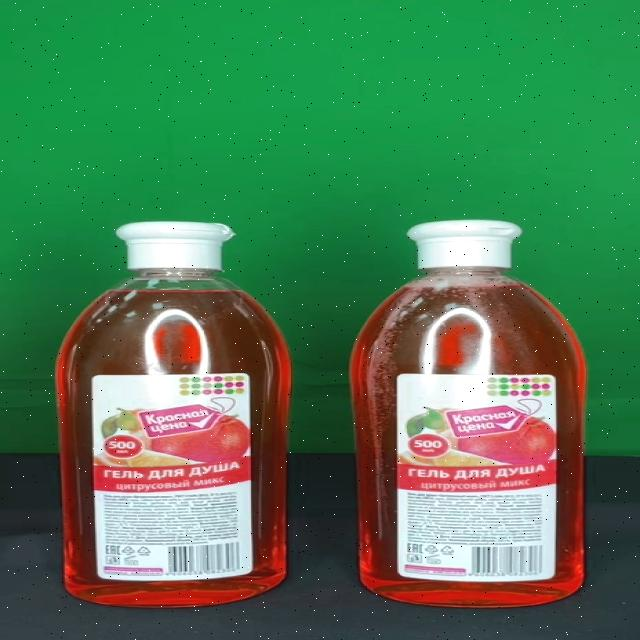Bottle: (348, 220, 588, 608), (54, 220, 293, 607)
Cap: (114, 222, 234, 270), (406, 220, 523, 268)
